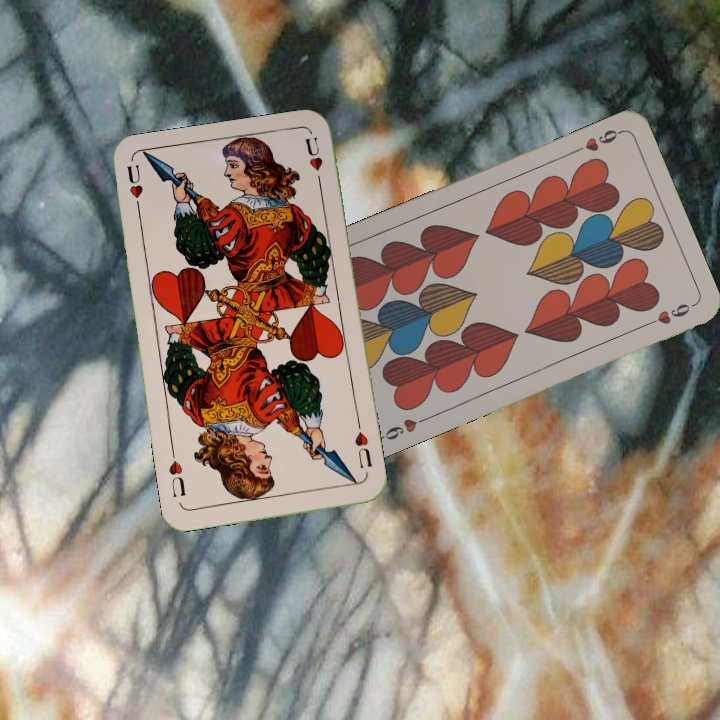H9: (568, 125, 624, 157), (373, 413, 430, 443)
HU: (123, 160, 145, 219), (350, 428, 375, 471)
